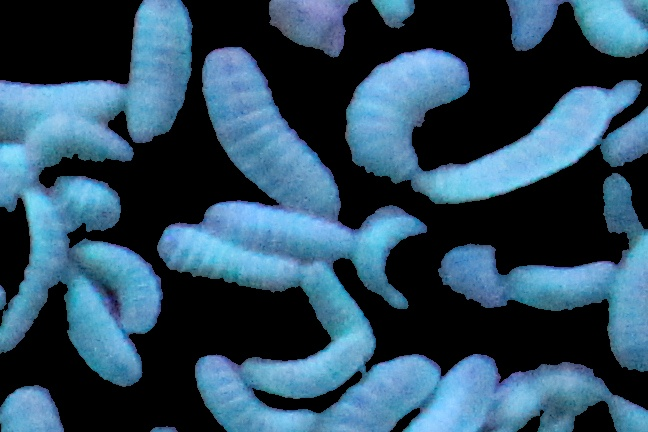larvae: (199, 45, 341, 213), (417, 85, 606, 201), (346, 50, 472, 187), (194, 183, 359, 258), (3, 188, 67, 350), (193, 353, 314, 432), (158, 224, 300, 291), (126, 1, 193, 142), (316, 356, 440, 432), (59, 279, 143, 387), (73, 239, 161, 337), (240, 332, 374, 396), (496, 364, 609, 432), (404, 352, 500, 432), (1, 70, 125, 131), (355, 210, 426, 311), (606, 230, 648, 369), (506, 261, 612, 313), (295, 263, 369, 336), (27, 120, 135, 167), (572, 1, 646, 57), (53, 176, 122, 228)
